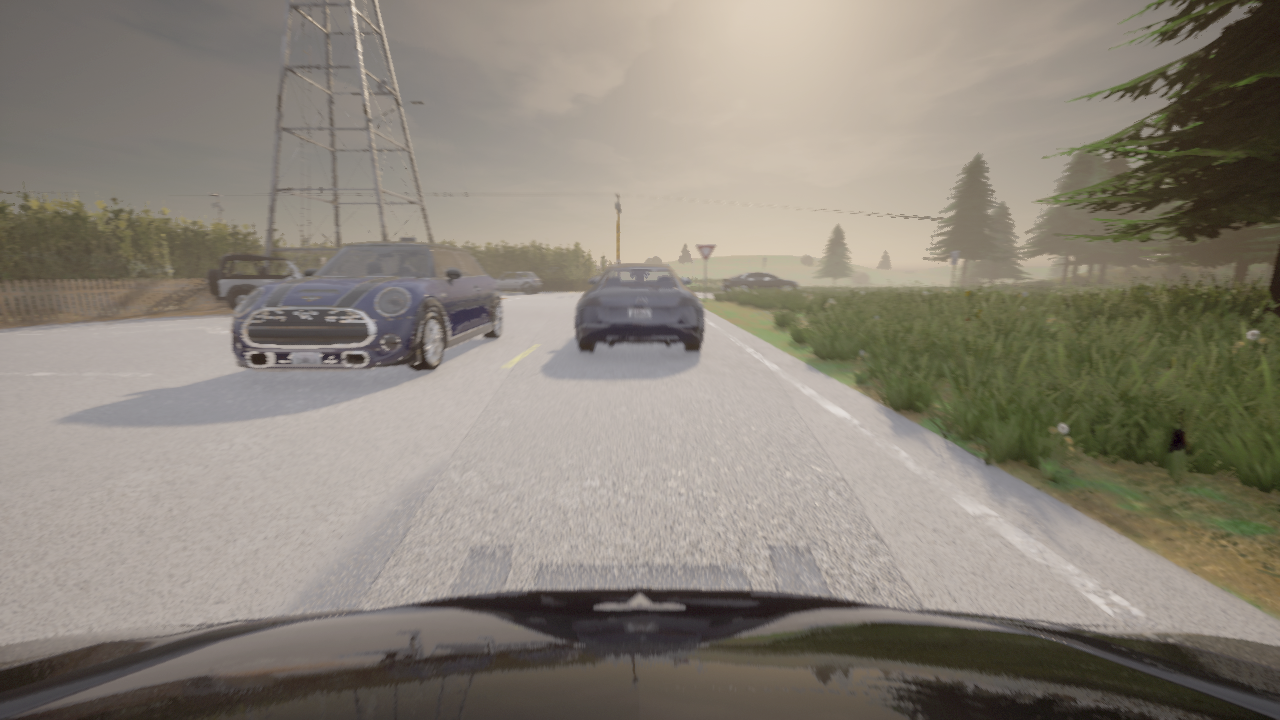cyclist: (0, 588, 1279, 719), (231, 241, 503, 371), (576, 264, 704, 352), (208, 253, 303, 310), (720, 271, 799, 291), (493, 272, 541, 293)
